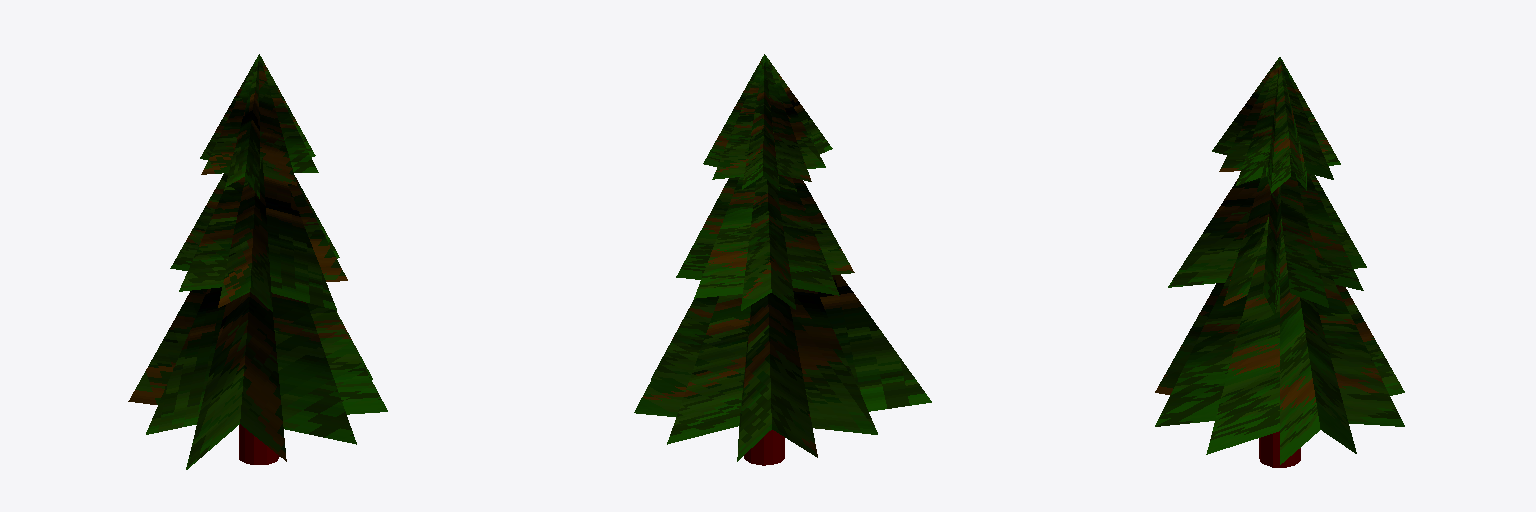
The picture shows the model from 3 angles: view 1: azimuth 30°, elevation 25°; view 2: azimuth 150°, elevation 25°; view 3: azimuth 270°, elevation 25°; orthographic projection.
Parts seen in each view (by area): view 1: pCone2; view 2: pCone2; view 3: pCone2.
Part boxes in pixels (bbox=[...]): pCone2: bbox=[128, 54, 387, 469]; pCone2: bbox=[634, 54, 931, 465]; pCone2: bbox=[1155, 57, 1404, 467].
Bounding box in the file's own units: 0.4376 × 0.7176 × 0.4042.
Materials: 2 (1 with a texture image).